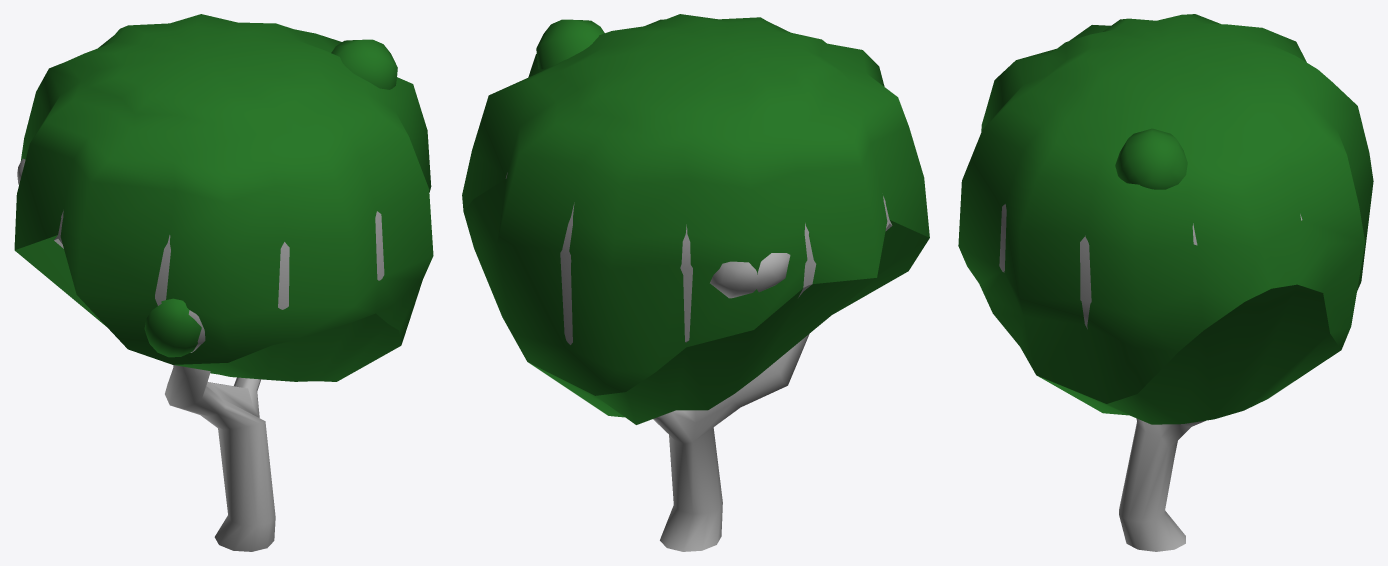
Rendered from sm_Tree.fbx.
3 views of the same model, side by side, from view 1: azimuth 30°, elevation 25°; view 2: azimuth 150°, elevation 25°; view 3: azimuth 270°, elevation 25° (orthographic). The views are drawn at different scales.
Parts seen in each view (by area): view 1: polySurface16, polySurface14, polySurface17, polySurface19, polySurface18; view 2: polySurface16, polySurface14, polySurface19, polySurface18; view 3: polySurface16, polySurface14, polySurface18, polySurface19.
Part boxes in pixels (bbox=[...]): polySurface16: bbox=[14, 14, 433, 381]; polySurface14: bbox=[165, 365, 275, 551]; polySurface17: bbox=[144, 298, 201, 357]; polySurface19: bbox=[17, 158, 384, 352]; polySurface18: bbox=[331, 39, 397, 89]; polySurface16: bbox=[462, 14, 929, 424]; polySurface14: bbox=[653, 334, 809, 551]; polySurface19: bbox=[505, 172, 892, 344]; polySurface18: bbox=[536, 19, 604, 69]; polySurface16: bbox=[958, 14, 1373, 424]; polySurface14: bbox=[1119, 418, 1205, 551]; polySurface18: bbox=[1115, 128, 1187, 189]; polySurface19: bbox=[999, 204, 1302, 329].
Size of the model in its own units: 51.98 by 63.23 by 49.76.
